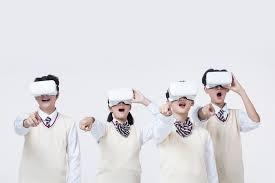Tshirt: (10, 110, 83, 183), (195, 106, 256, 183), (86, 116, 150, 182), (154, 117, 214, 183)
